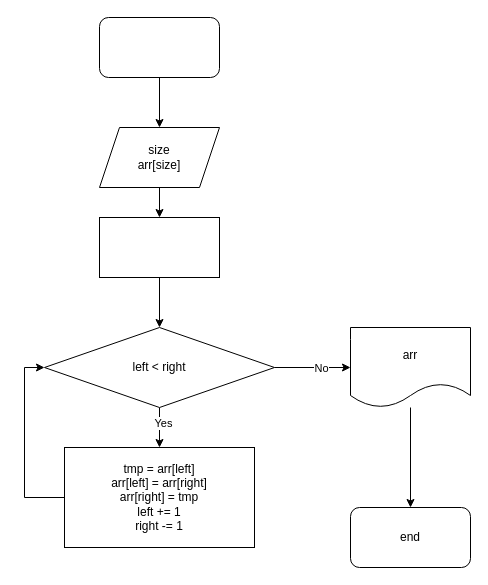
The diagram is 488 pixels wide and 585 high, and some of its shapes have lost their labels. The centre of each missing label's shape, as x and y in pixels:
"array_reverse" goes at pixel 159 47.
"left = 0 right = size" goes at pixel 159 247.
